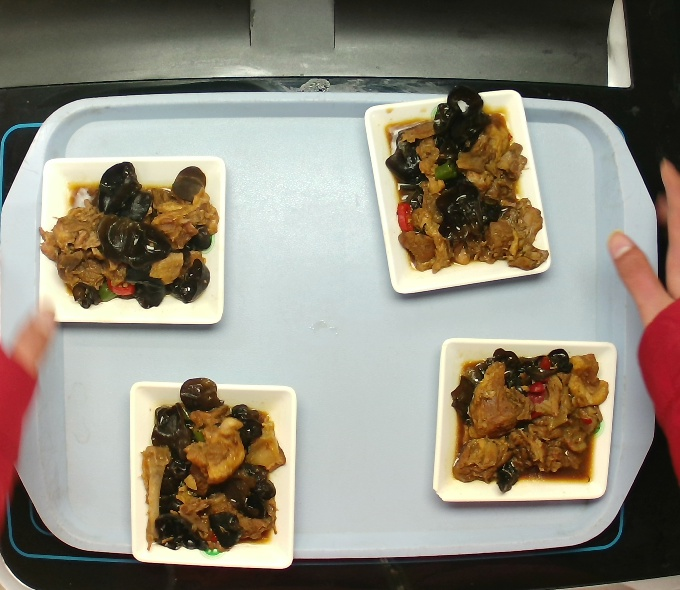wcq-MuErYaRou: (386, 85, 546, 283), (137, 382, 291, 549), (45, 161, 211, 312), (451, 336, 597, 501)
